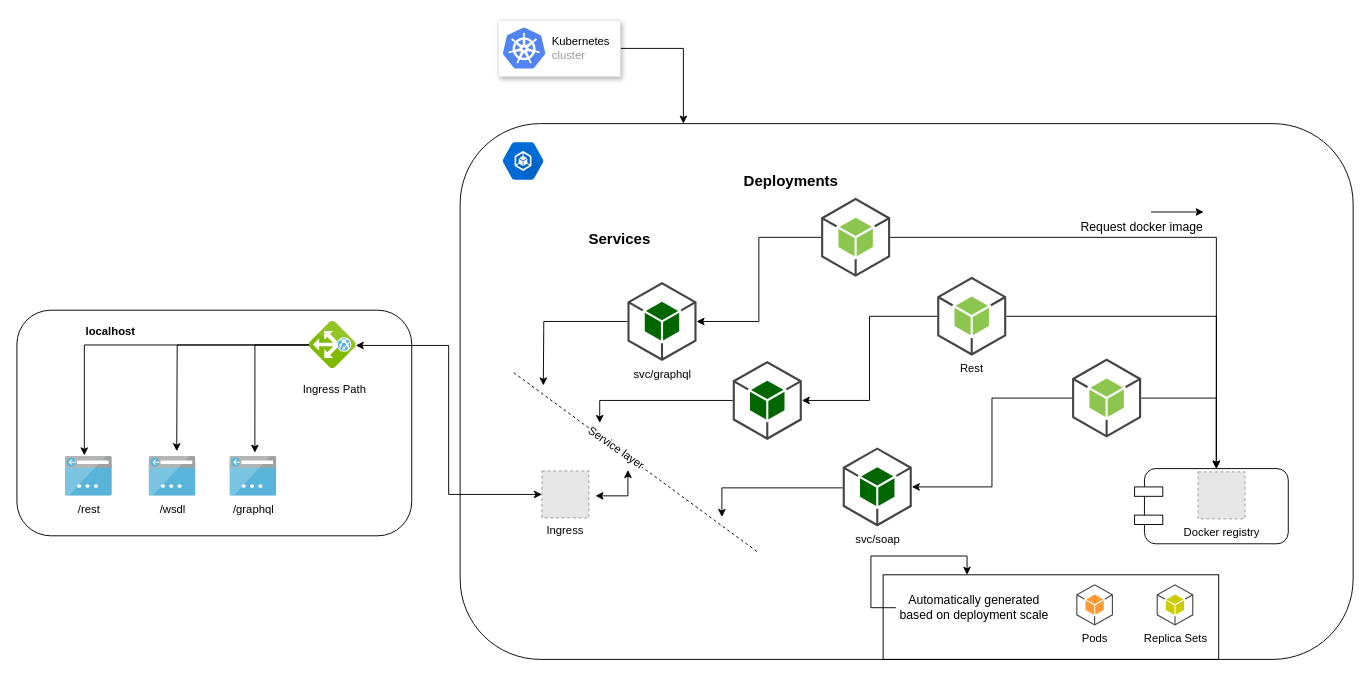
This 1370x676 diagram has some shape labels left out. Grey dashed boxes stand in for pictures. Here are the shapes that lost their labels. From the top down, the centre of each, then its label:
At pixel 523 160: "Node".
At pixel 855 237: "GraphQL".
At pixel 767 400: "svc/rest".
At pixel 1106 398: "Soap".
